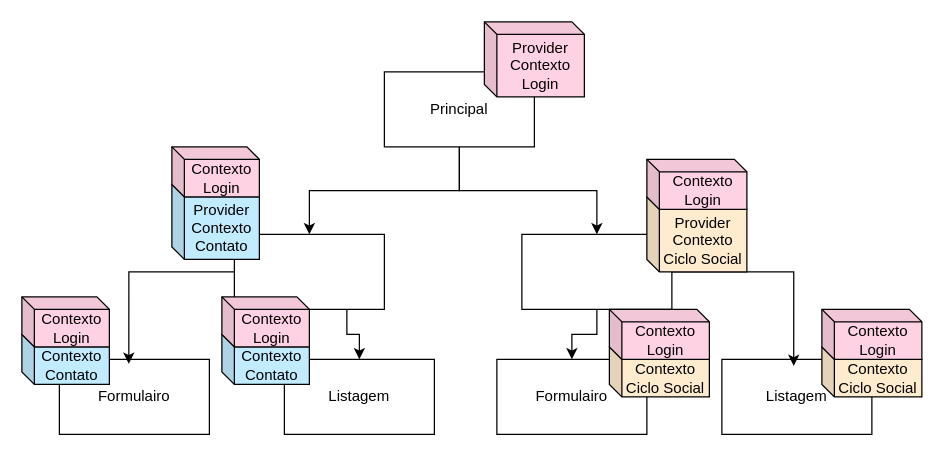
Image size: 944x456. Some labels were removed from this diagram. Each missing label, with the centre of its shape:
"Ciclo Social Modulo" goes at pixel 596 271.
"Contato Modulo" goes at pixel 308 271.
